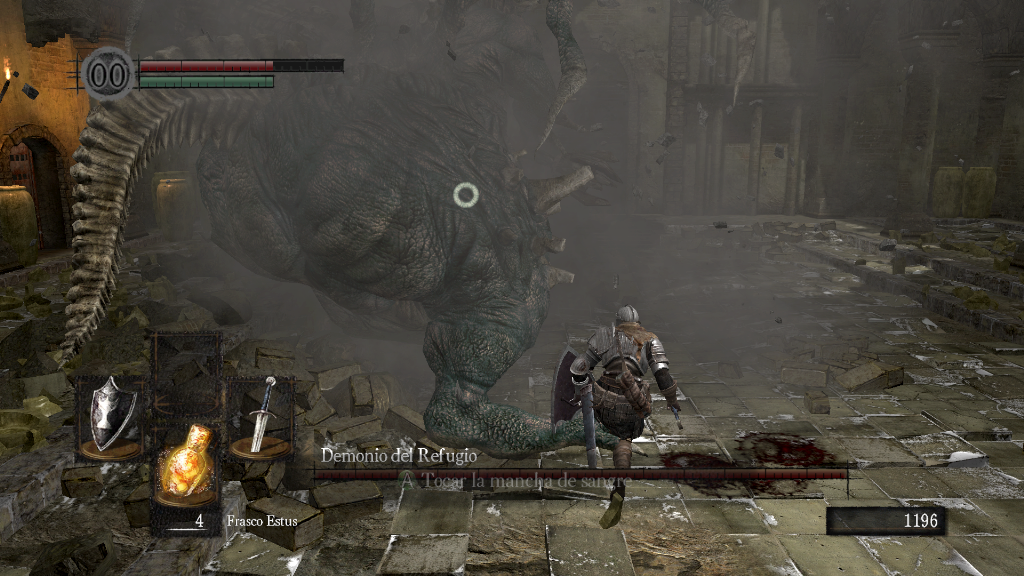asylumDemon: (58, 3, 661, 460)
bossHP: (314, 469, 847, 479)
health: (138, 58, 343, 71)
humanity: (80, 45, 136, 102)
player: (550, 302, 685, 466)
souls: (825, 506, 945, 536)
stamina: (138, 74, 274, 88)
